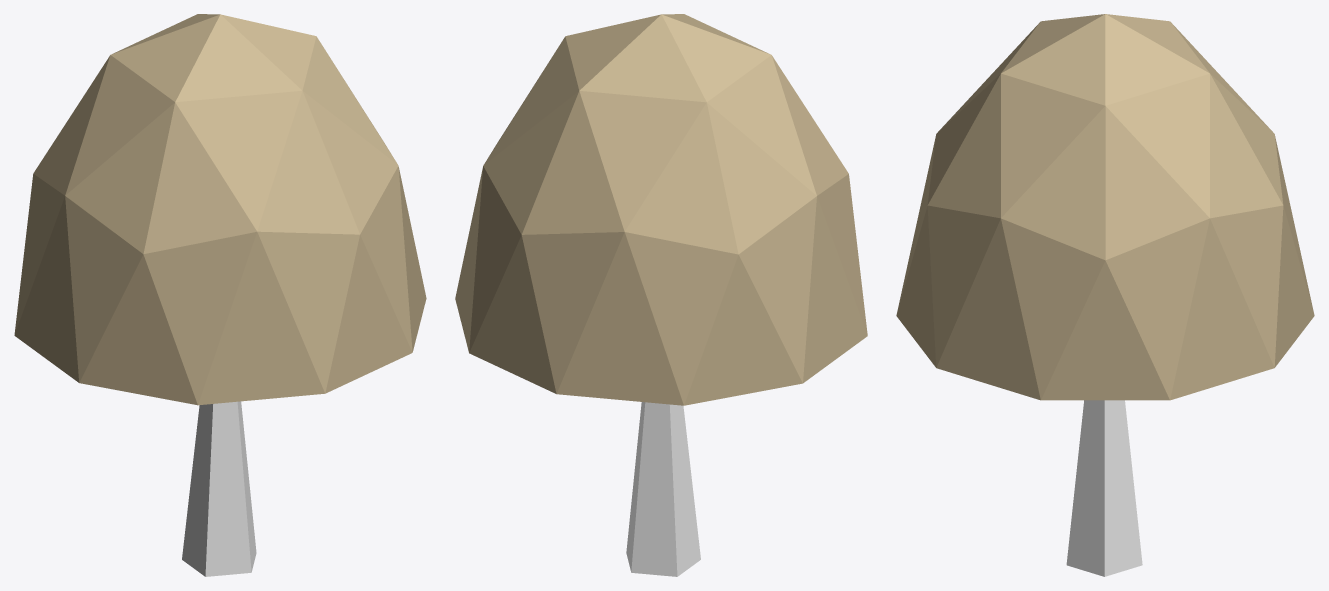
File: cogumelo7.FBX
3 views of the same model, side by side, from view 1: azimuth 30°, elevation 25°; view 2: azimuth 150°, elevation 25°; view 3: azimuth 270°, elevation 25° (orthographic).
Visible parts, largest first — view 1: cogumelo7cabeca, cogumelo7; view 2: cogumelo7cabeca, cogumelo7; view 3: cogumelo7cabeca, cogumelo7.
Boxes of the visible parts, box(x1,y1,x2,y2) form: cogumelo7cabeca: box(14, 14, 426, 405); cogumelo7: box(182, 401, 256, 576); cogumelo7cabeca: box(455, 14, 867, 405); cogumelo7: box(626, 402, 700, 576); cogumelo7cabeca: box(896, 14, 1314, 400); cogumelo7: box(1066, 400, 1142, 576).
Size of the model in its own units: 48.02 by 72.26 by 50.2.
